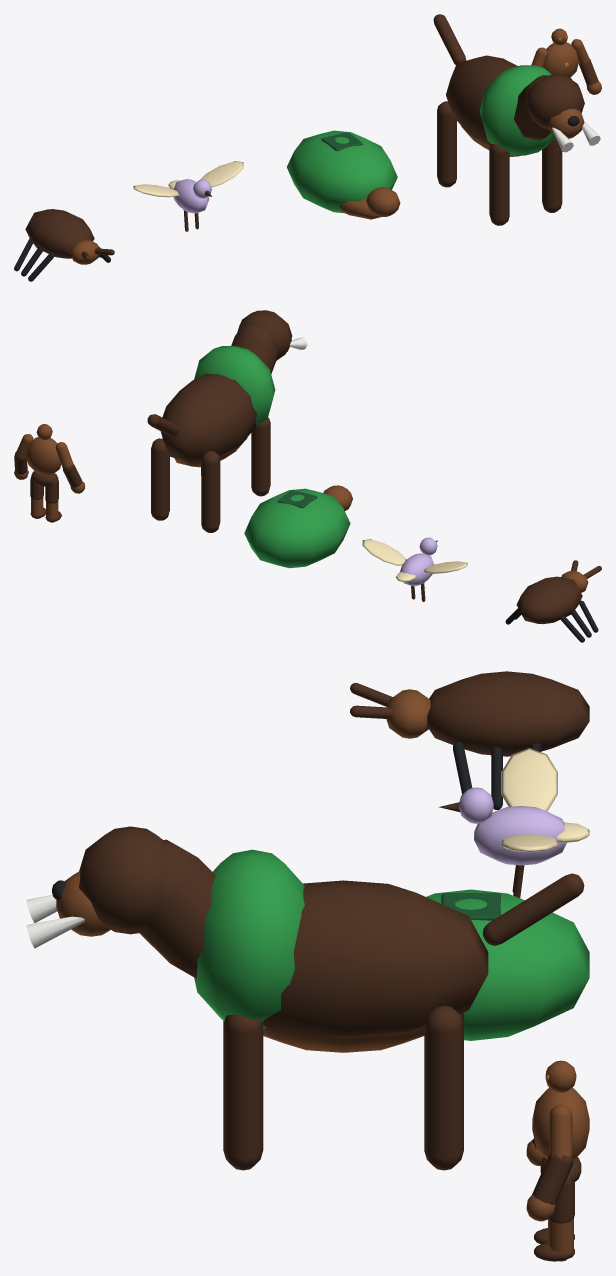
File: wildwood.glb
3 views of the same model, one above another, from view 1: azimuth 30°, elevation 25°; view 2: azimuth 150°, elevation 25°; view 3: azimuth 270°, elevation 25° (orthographic). The views are drawn at different scales.
Visible parts, largest first — view 1: body (×4), shell, joint_neck, leg_0R, leg_1R, head (×2), leg_0L, torso, joint_tail, wing_L, arm_lower_L, wing_R; view 2: body (×3), shell, joint_neck, leg_1R, leg_1L, leg_0R, torso, wing_L, head; view 3: body (×3), joint_neck, shell, leg_1L, leg_0L, head (×3), wing_R, joint_tail, torso, arm_lower_L, leg_lower_L, arm_upper_L (+1 smaller).
Part boxes in pixels (left/top/right/bottom): body (×4): left=25, top=55, right=555, bottom=258; shell: left=287, top=130, right=397, bottom=213; joint_neck: left=514, top=74, right=600, bottom=152; leg_0R: left=489, top=144, right=509, bottom=225; leg_1R: left=437, top=101, right=456, bottom=187; head (×2): left=70, top=187, right=400, bottom=264; leg_0L: left=542, top=137, right=562, bottom=212; torso: left=543, top=42, right=578, bottom=77; joint_tail: left=433, top=14, right=466, bottom=64; wing_L: left=200, top=161, right=243, bottom=187; arm_lower_L: left=579, top=58, right=601, bottom=94; wing_R: left=133, top=184, right=179, bottom=197; body (×3): left=161, top=346, right=582, bottom=624; shell: left=244, top=488, right=350, bottom=568; joint_neck: left=231, top=310, right=307, bottom=373; leg_1R: left=201, top=451, right=220, bottom=532; leg_1L: left=151, top=438, right=169, bottom=520; leg_0R: left=251, top=417, right=270, bottom=496; torso: left=26, top=437, right=61, bottom=475; wing_L: left=362, top=539, right=406, bottom=565; head: left=561, top=560, right=601, bottom=592; body (×3): left=194, top=671, right=589, bottom=1052; joint_neck: left=26, top=826, right=215, bottom=978; shell: left=426, top=889, right=589, bottom=1040; leg_1L: left=424, top=1005, right=463, bottom=1170; leg_0L: left=223, top=1014, right=263, bottom=1170; head (×3): left=350, top=683, right=576, bottom=1092; wing_R: left=501, top=748, right=557, bottom=811; joint_tail: left=482, top=873, right=584, bottom=945; torso: left=532, top=1087, right=589, bottom=1159; arm_lower_L: left=526, top=1155, right=573, bottom=1221; leg_lower_L: left=534, top=1218, right=574, bottom=1261; arm_upper_L: left=549, top=1104, right=572, bottom=1158.
Bounding box in the file's own units: 94.4 × 24.88 × 40.73.
